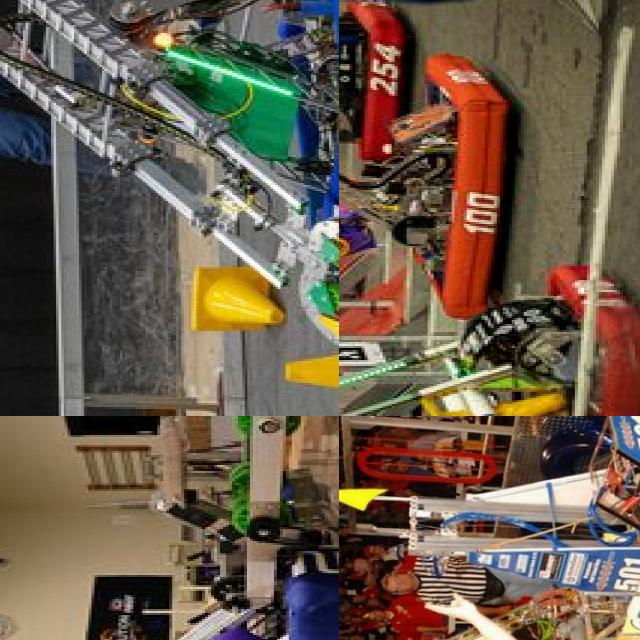FRC-Robots: (0, 0, 339, 352), (16, 416, 339, 640), (380, 416, 640, 628), (339, 46, 509, 316), (339, 274, 640, 416), (389, 569, 640, 640), (339, 0, 436, 139)
